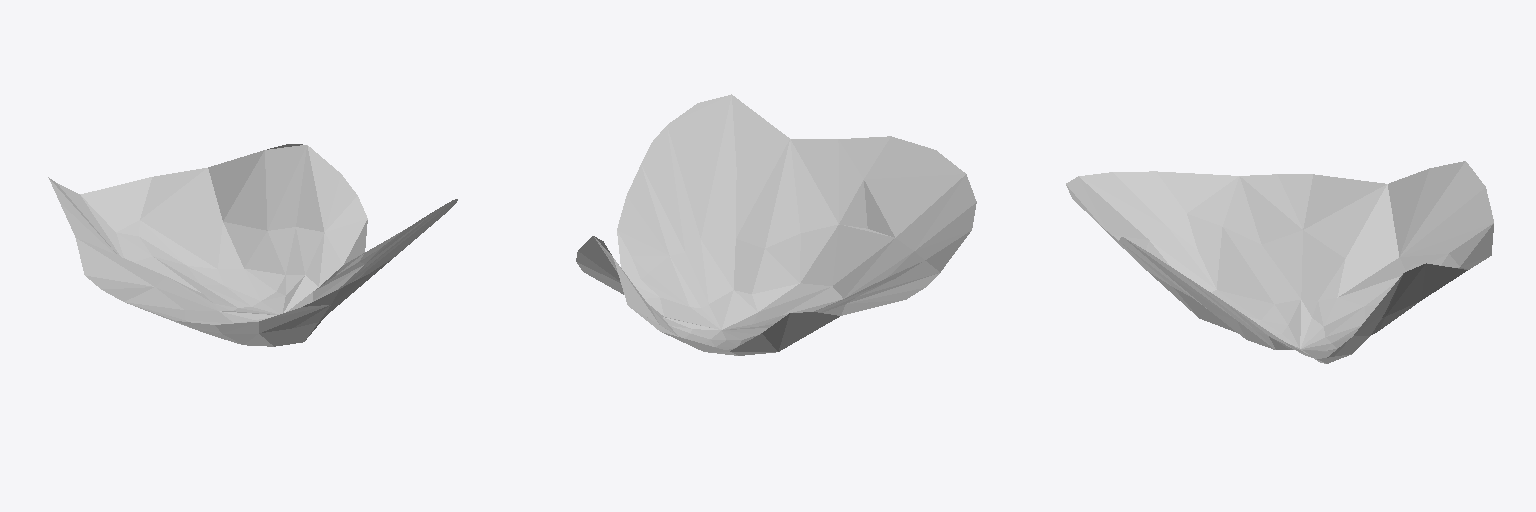
The model's file is provberg.obj.
3 renders of one model, left to right at view 1: azimuth 30°, elevation 25°; view 2: azimuth 150°, elevation 25°; view 3: azimuth 270°, elevation 25°, orthographic.
Parts seen in each view (by area): view 1: pCylinder1; view 2: pCylinder1; view 3: pCylinder1.
Part boxes in pixels (left/top/right/bottom): pCylinder1: left=48, top=144, right=457, bottom=346; pCylinder1: left=576, top=94, right=976, bottom=355; pCylinder1: left=1066, top=161, right=1493, bottom=363.
Size of the model in its own units: 1793 by 831 by 2132.